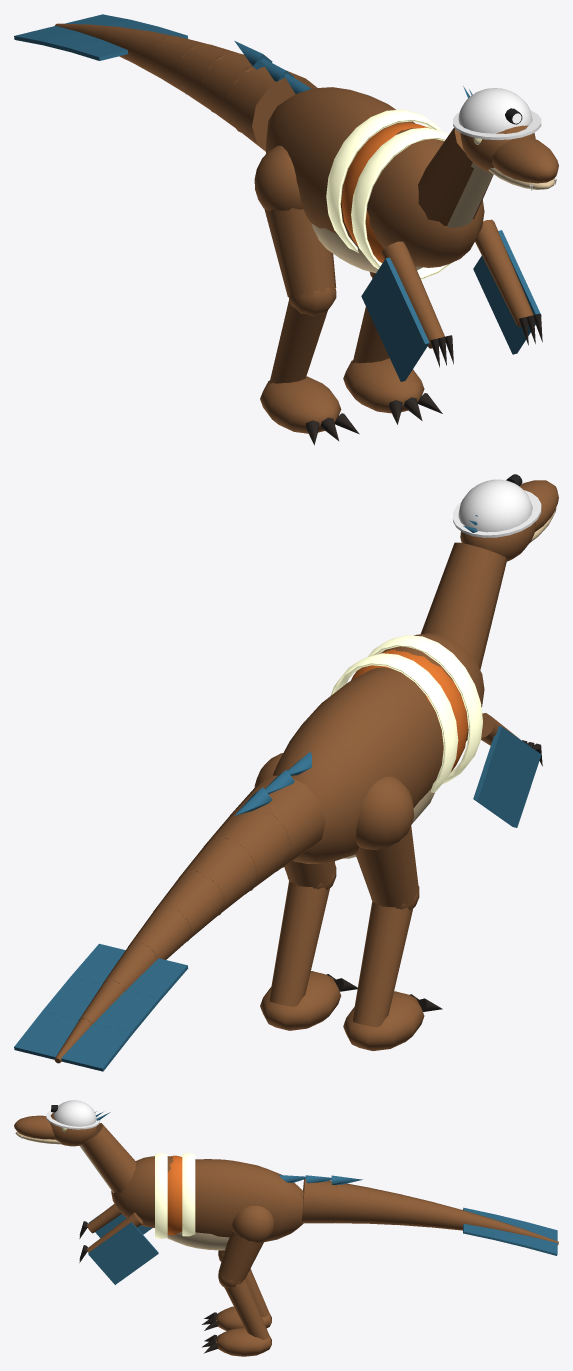
Rendered from dino_raptor_hffffff_ve8762a.glb.
The picture shows the model from 3 angles, top to bottom: view 1: azimuth 30°, elevation 25°; view 2: azimuth 150°, elevation 25°; view 3: azimuth 270°, elevation 25°; orthographic projection. The views are drawn at different scales.
Visible parts, largest first — view 1: dino_hips, dino_head, dino_arms_0_sh, dino_legs_0_hip, dino_arms_1_sh, dino_neckBase, dino_legs_0_ankle, dino_legs_0_knee, dino_legs_1_ankle, dino_tail_0_p, dino_tail_1_p, dino_tail_2_p (+6 smaller); view 2: dino_hips, dino_legs_0_hip, dino_neckBase, dino_head, dino_legs_1_knee, dino_legs_0_knee, dino_arms_0_sh, dino_tail_7_p, dino_tail_6_p, dino_tail_5_p, dino_tail_1_p, dino_tail_0_p (+6 smaller); view 3: dino_hips, dino_arms_1_sh, dino_head, dino_legs_1_hip, dino_neckBase, dino_tail_0_p, dino_legs_1_knee, dino_legs_1_ankle, dino_tail_1_p, dino_tail_2_p, dino_tail_3_p, dino_tail_5_p (+6 smaller).
Boxes of the visible parts, x1=… form: dino_hips: x1=234, y1=41, x2=484, y2=279; dino_head: x1=452, y1=86, x2=558, y2=190; dino_arms_0_sh: x1=361, y1=241, x2=453, y2=381; dino_legs_0_hip: x1=254, y1=145, x2=336, y2=297; dino_arms_1_sh: x1=473, y1=219, x2=542, y2=354; dino_neckBase: x1=418, y1=128, x2=493, y2=227; dino_legs_0_ankle: x1=260, y1=376, x2=359, y2=445; dino_legs_0_knee: x1=269, y1=287, x2=336, y2=383; dino_legs_1_ankle: x1=343, y1=357, x2=442, y2=424; dino_tail_0_p: x1=225, y1=67, x2=317, y2=151; dino_tail_1_p: x1=201, y1=53, x2=253, y2=132; dino_tail_2_p: x1=176, y1=44, x2=240, y2=112; dino_hips: x1=234, y1=633, x2=484, y2=863; dino_legs_0_hip: x1=355, y1=776, x2=419, y2=908; dino_neckBase: x1=421, y1=542, x2=507, y2=669; dino_head: x1=452, y1=474, x2=558, y2=561; dino_legs_1_knee: x1=269, y1=865, x2=336, y2=1006; dino_legs_0_knee: x1=352, y1=886, x2=419, y2=1027; dino_arms_0_sh: x1=473, y1=713, x2=542, y2=827; dino_tail_7_p: x1=14, y1=1011, x2=131, y2=1071; dino_tail_6_p: x1=42, y1=977, x2=159, y2=1035; dino_tail_5_p: x1=70, y1=940, x2=188, y2=1000; dino_tail_1_p: x1=204, y1=807, x2=291, y2=894; dino_tail_0_p: x1=230, y1=775, x2=325, y2=871; dino_hips: x1=111, y1=1153, x2=362, y2=1250; dino_arms_1_sh: x1=79, y1=1212, x2=158, y2=1284; dino_head: x1=14, y1=1100, x2=110, y2=1146; dino_legs_1_hip: x1=218, y1=1205, x2=274, y2=1282; dino_neckBase: x1=79, y1=1123, x2=136, y2=1192; dino_tail_0_p: x1=301, y1=1179, x2=337, y2=1223; dino_legs_1_knee: x1=218, y1=1271, x2=268, y2=1339; dino_legs_1_ankle: x1=202, y1=1328, x2=271, y2=1356; dino_tail_1_p: x1=332, y1=1183, x2=370, y2=1223; dino_tail_2_p: x1=365, y1=1187, x2=402, y2=1225; dino_tail_3_p: x1=397, y1=1194, x2=434, y2=1227; dino_tail_5_p: x1=461, y1=1207, x2=497, y2=1239.
Bounding box in the file's own units: 0.646 × 1.8 × 3.7.
